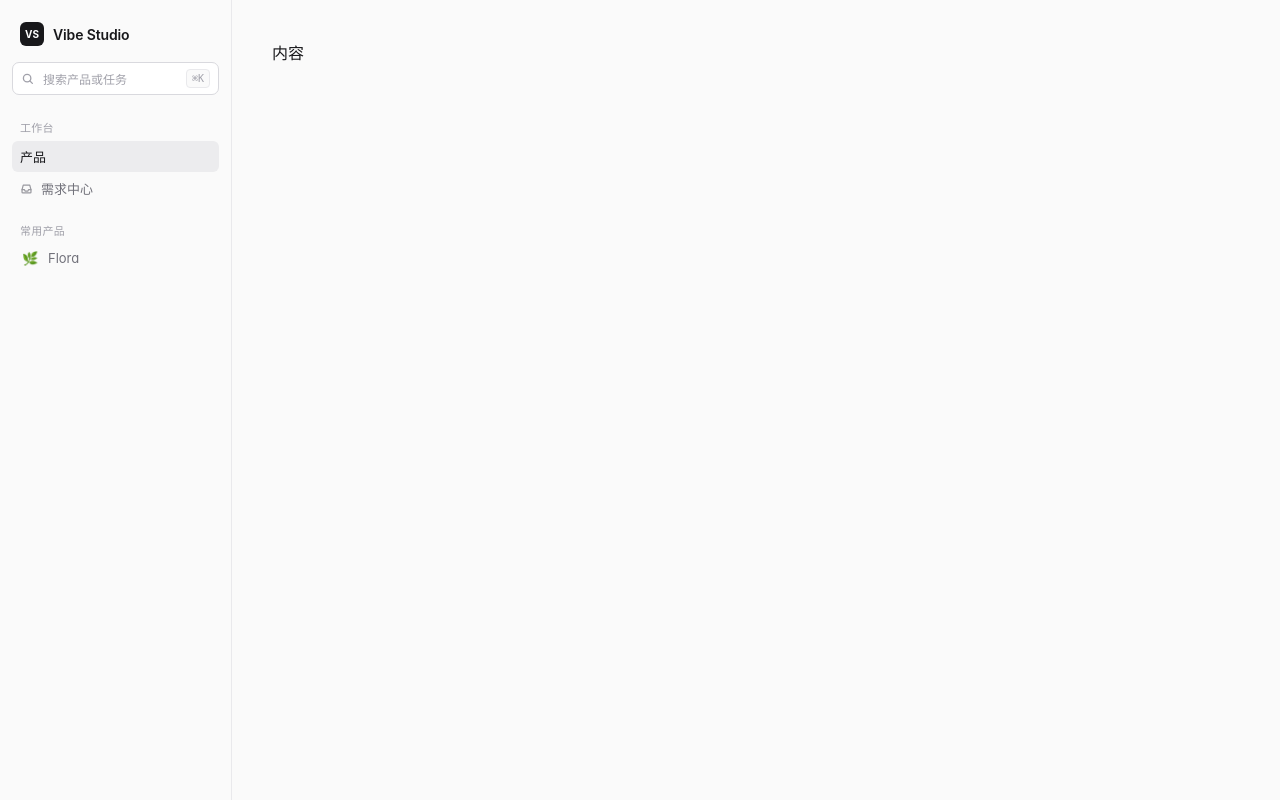
CommandPalette › finds finished tasks, which are collapsed on the board
Step 1. Type keys "{Meta>}k{/Meta}"
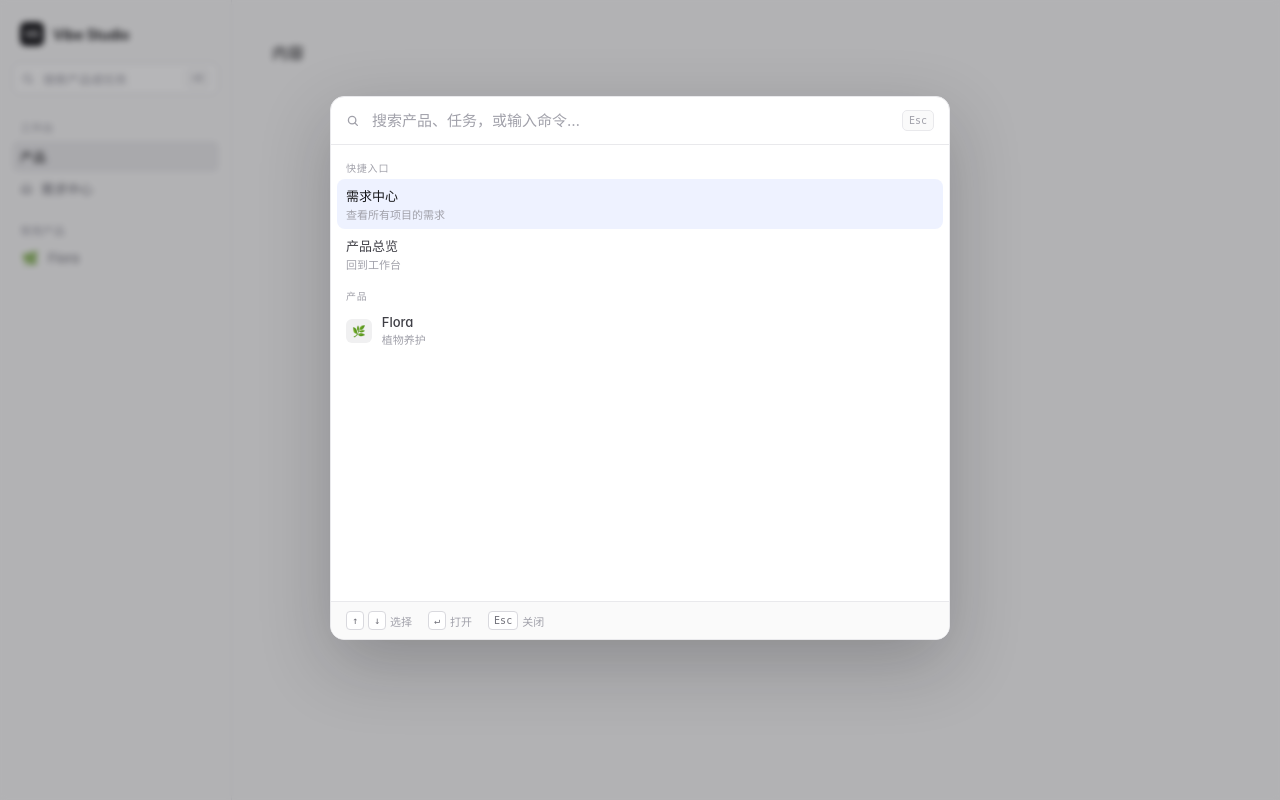
Step 2. Type "做完" into the field named "搜索产品与任务" → (631, 120), box [370,110,892,131]
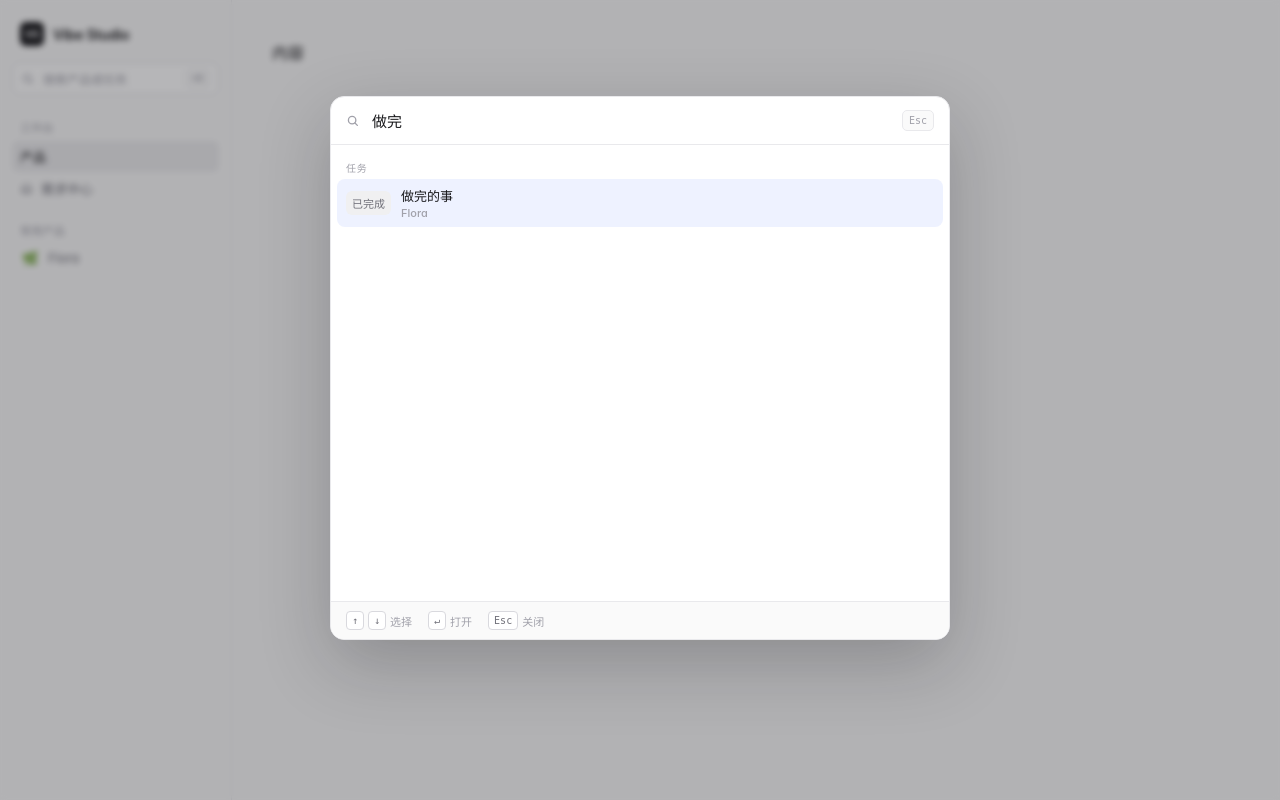
Expected: the text "做完的事" is shown, [401,188,453,204]
